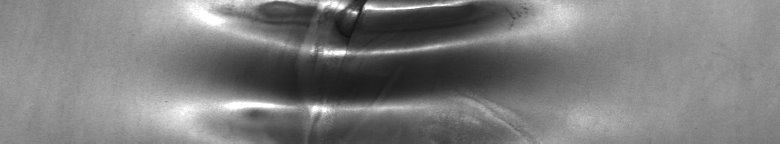ke: (184, 4, 536, 136)
